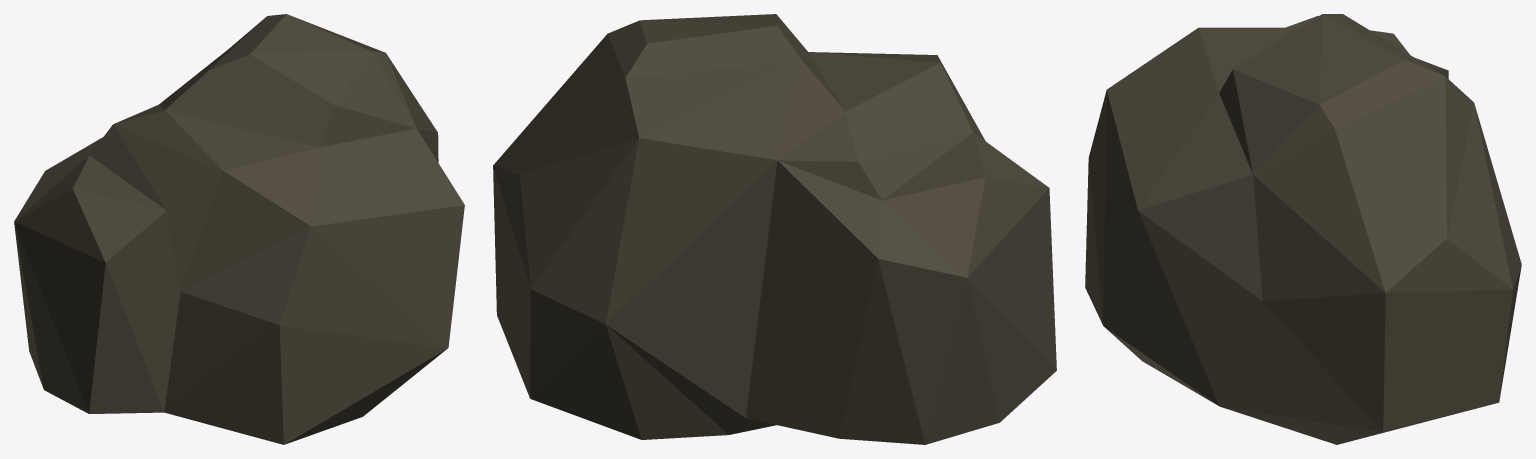
File: rock__rock2_cave_dark.glb
The picture shows the model from 3 angles, left to right: view 1: azimuth 30°, elevation 25°; view 2: azimuth 150°, elevation 25°; view 3: azimuth 270°, elevation 25°; orthographic projection. The views are drawn at different scales.
Parts seen in each view (by area): view 1: rock2.cave.dark; view 2: rock2.cave.dark; view 3: rock2.cave.dark.
Boxes of the visible parts, box(x1,y1,x2,y2) form: rock2.cave.dark: box(14, 14, 464, 444); rock2.cave.dark: box(493, 14, 1056, 444); rock2.cave.dark: box(1085, 14, 1521, 444).
Bounding box in the file's own units: 3.5 × 2.59 × 2.93.
Materials: 1 (1 with a texture image).
